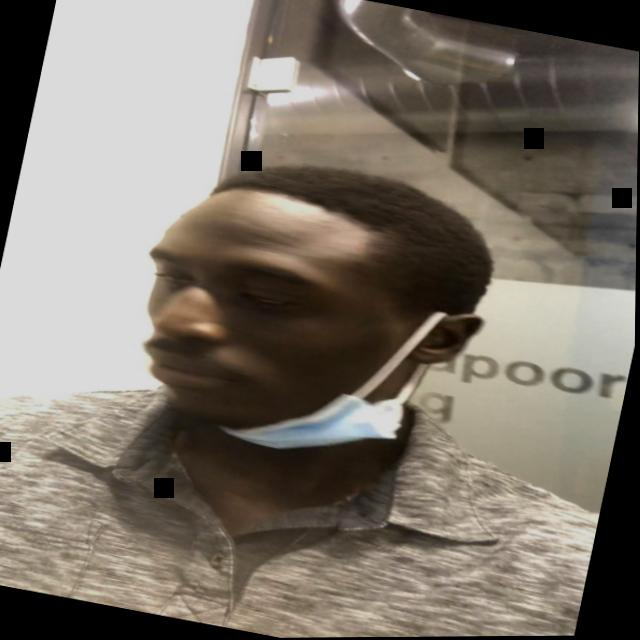NO-Mask: (118, 181, 474, 469)
